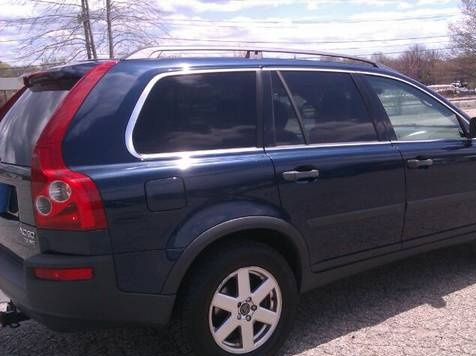volvo: (1, 39, 476, 355)
